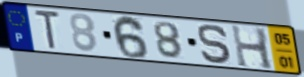6: (111, 14, 151, 61)
8: (68, 12, 100, 55), (152, 21, 184, 60)
H: (229, 23, 276, 72)
S: (196, 23, 235, 66)
T: (33, 8, 63, 51)
